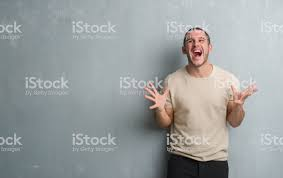white_male: (181, 30, 215, 75)
